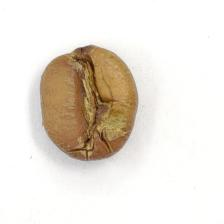NG: (63, 48, 126, 155)
